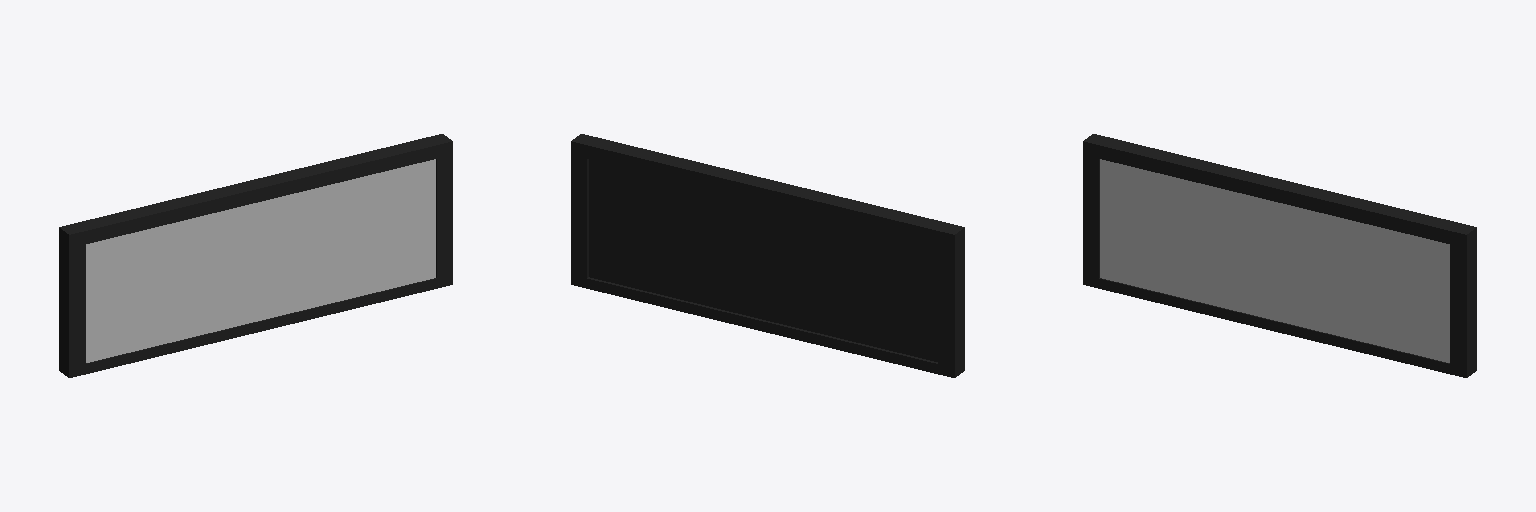
Rendered from Sign_1.obj.
3 views of the same model, side by side, from view 1: azimuth 30°, elevation 25°; view 2: azimuth 150°, elevation 25°; view 3: azimuth 330°, elevation 25° (orthographic).
Visible parts, largest first — view 1: Sign_1_Cube.007; view 2: Sign_1_Cube.007; view 3: Sign_1_Cube.007.
Boxes of the visible parts, x1=… form: Sign_1_Cube.007: x1=59, y1=134, x2=452, y2=377; Sign_1_Cube.007: x1=571, y1=134, x2=964, y2=377; Sign_1_Cube.007: x1=1083, y1=134, x2=1476, y2=377.
Bounding box in the file's own units: 1.29 × 0.4622 × 0.0618.